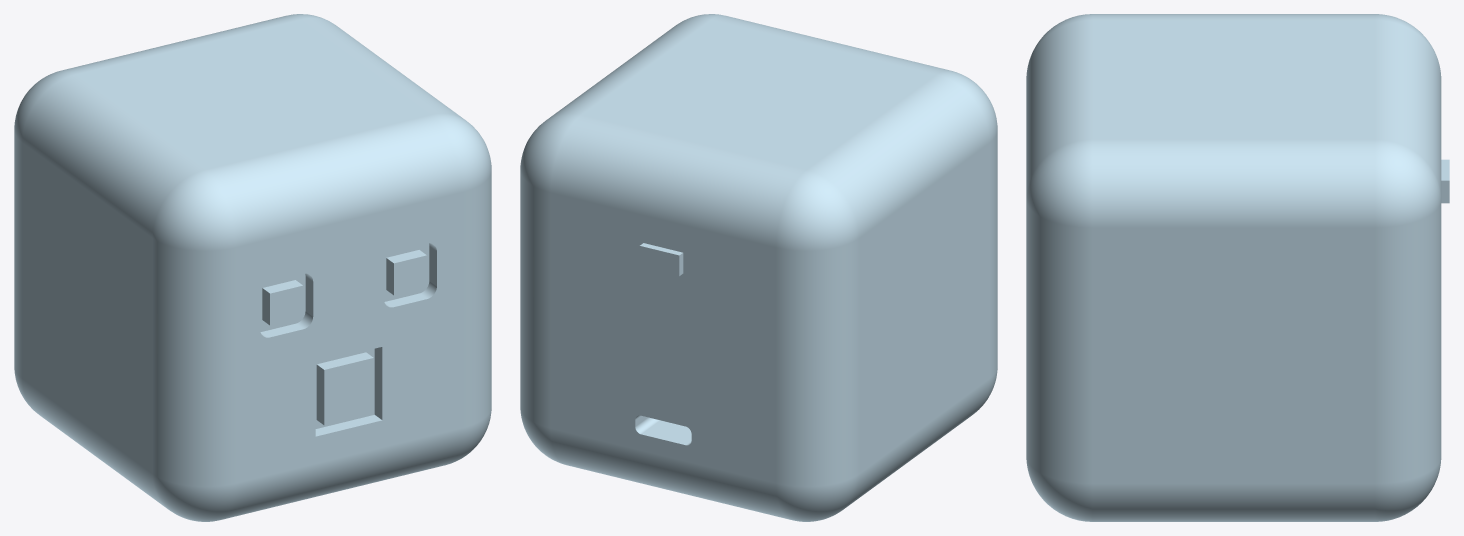
File: Cube_Desk_bud-1.glb
The picture shows the model from 3 angles, left to right: view 1: azimuth 30°, elevation 25°; view 2: azimuth 150°, elevation 25°; view 3: azimuth 270°, elevation 25°; orthographic projection. The views are drawn at different scales.
Visible parts, largest first — view 1: Part 1; view 2: Part 1; view 3: Part 1.
Boxes of the visible parts, bbox=[...] form: Part 1: bbox=[14, 14, 491, 521]; Part 1: bbox=[520, 14, 997, 521]; Part 1: bbox=[1026, 14, 1449, 521].
Size of the model in its own units: 0.05 by 0.05 by 0.051.
